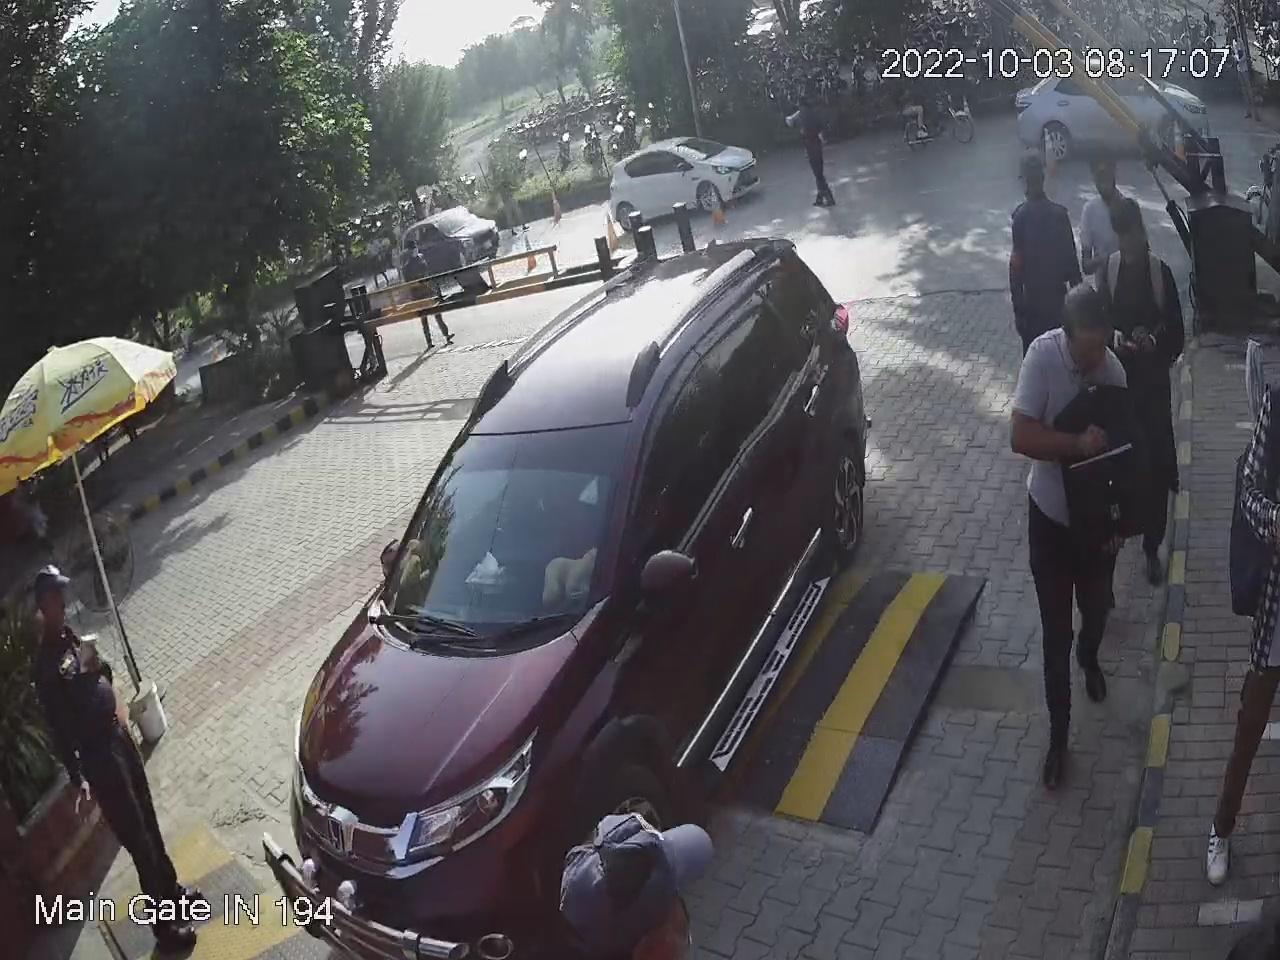windshield: (373, 419, 631, 630)
